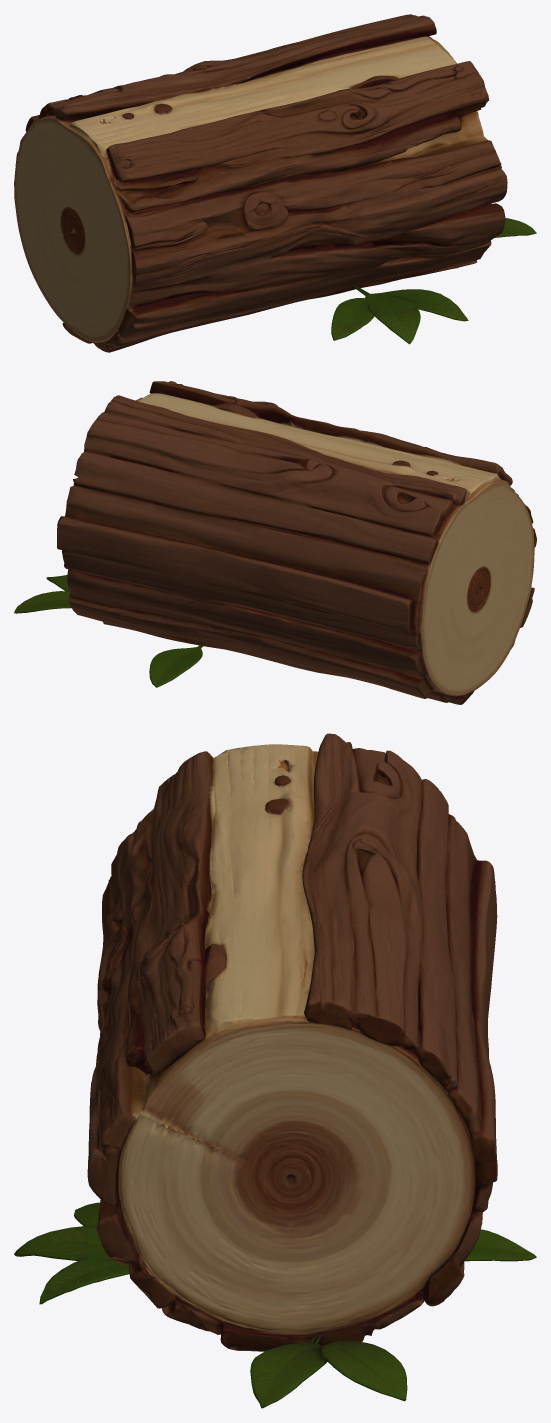
File: wood+log+3d+model.glb
The picture shows the model from 3 angles, top to bottom: view 1: azimuth 30°, elevation 25°; view 2: azimuth 150°, elevation 25°; view 3: azimuth 270°, elevation 25°; orthographic projection. The views are drawn at different scales.
Visible parts, largest first — view 1: tripo_node_6b86b4b0-e2d4-4ff4-81d2-a437d16b6416; view 2: tripo_node_6b86b4b0-e2d4-4ff4-81d2-a437d16b6416; view 3: tripo_node_6b86b4b0-e2d4-4ff4-81d2-a437d16b6416.
Boxes of the visible parts, x1,y1,x2,y2 form: tripo_node_6b86b4b0-e2d4-4ff4-81d2-a437d16b6416: [14, 14, 536, 352]; tripo_node_6b86b4b0-e2d4-4ff4-81d2-a437d16b6416: [14, 381, 536, 704]; tripo_node_6b86b4b0-e2d4-4ff4-81d2-a437d16b6416: [14, 733, 536, 1408].
Bounding box in the file's own units: 0.9823 × 0.4779 × 0.6347.
Materials: 1 (1 with a texture image).
